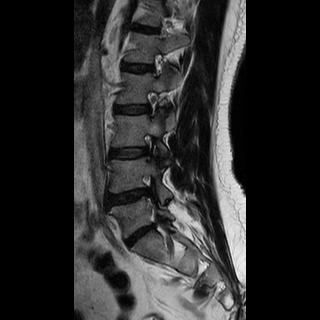RFS0: (140, 84, 165, 123)
RFS2: (137, 129, 161, 166)
